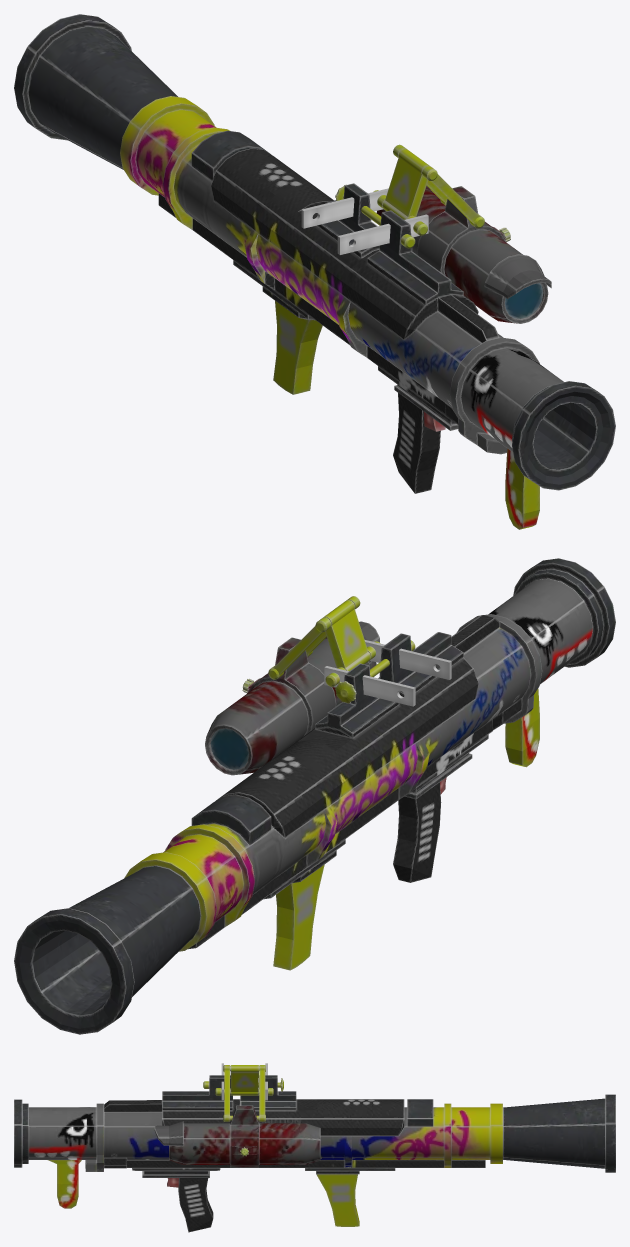
File: bazooka.optimized.glb
3 views of the same model, one above another, from view 1: azimuth 30°, elevation 25°; view 2: azimuth 150°, elevation 25°; view 3: azimuth 270°, elevation 25° (orthographic). The views are drawn at different scales.
Parts seen in each view (by area): view 1: defaultMaterial (×8); view 2: defaultMaterial (×8); view 3: defaultMaterial (×6).
Boxes of the visible parts, bbox=[...] form: defaultMaterial (×8): bbox=[14, 14, 615, 529]; defaultMaterial (×8): bbox=[14, 558, 615, 1034]; defaultMaterial (×6): bbox=[14, 1065, 615, 1232].
Size of the model in its own units: 104 by 154 by 477.
9 materials, 9 textured.
